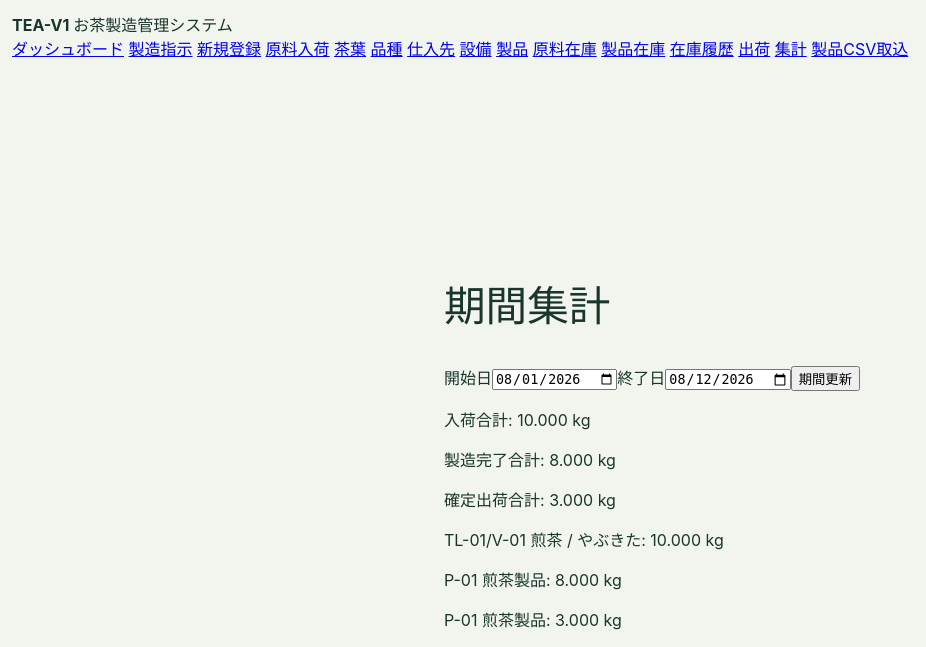
it: 集計期間をURL同期し不正期間を表示する
Expected: the text "入荷合計: 10.000 kg" is shown, [444,410,590,430]
In the date field labelled "開始日": (555, 379) [492,369,617,390], type "2026-08-20"
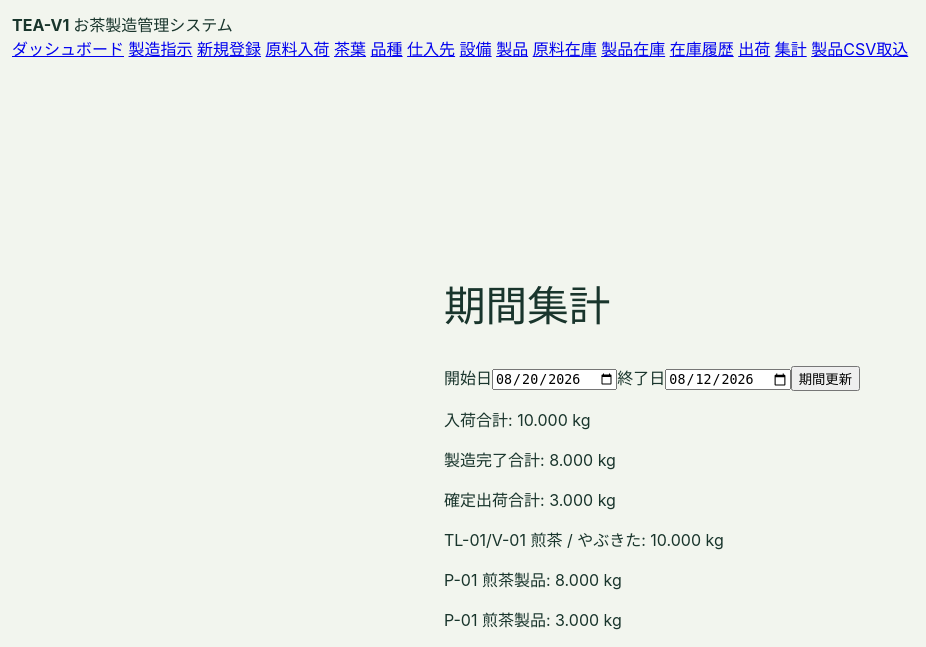
Click the button "期間更新": (825, 378) [791,366,860,391]
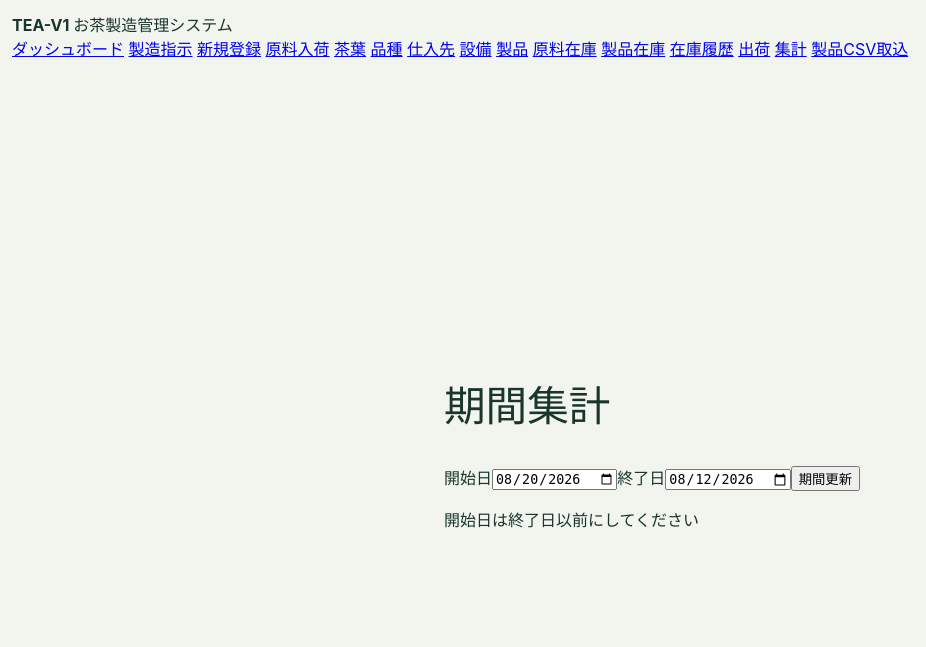
Expected: the message reads "開始日は終了日以前にしてください", [444,510,699,530]
